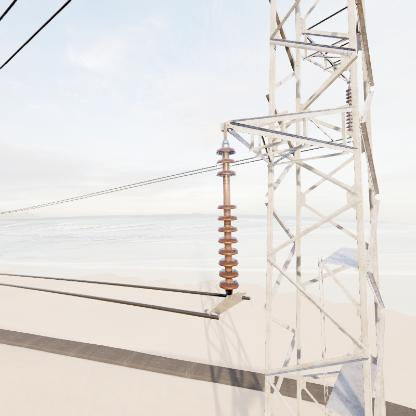insulator: (213, 142, 241, 294)
